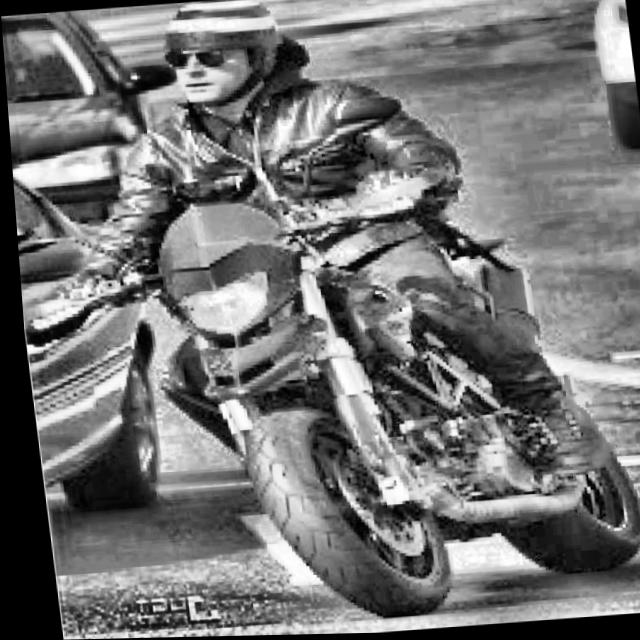motorcycle: (50, 66, 640, 632)
